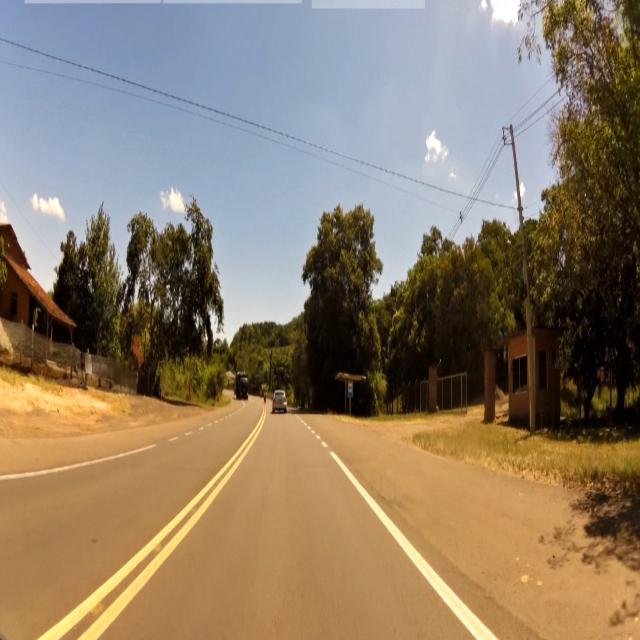S-14: (347, 381, 354, 399)
